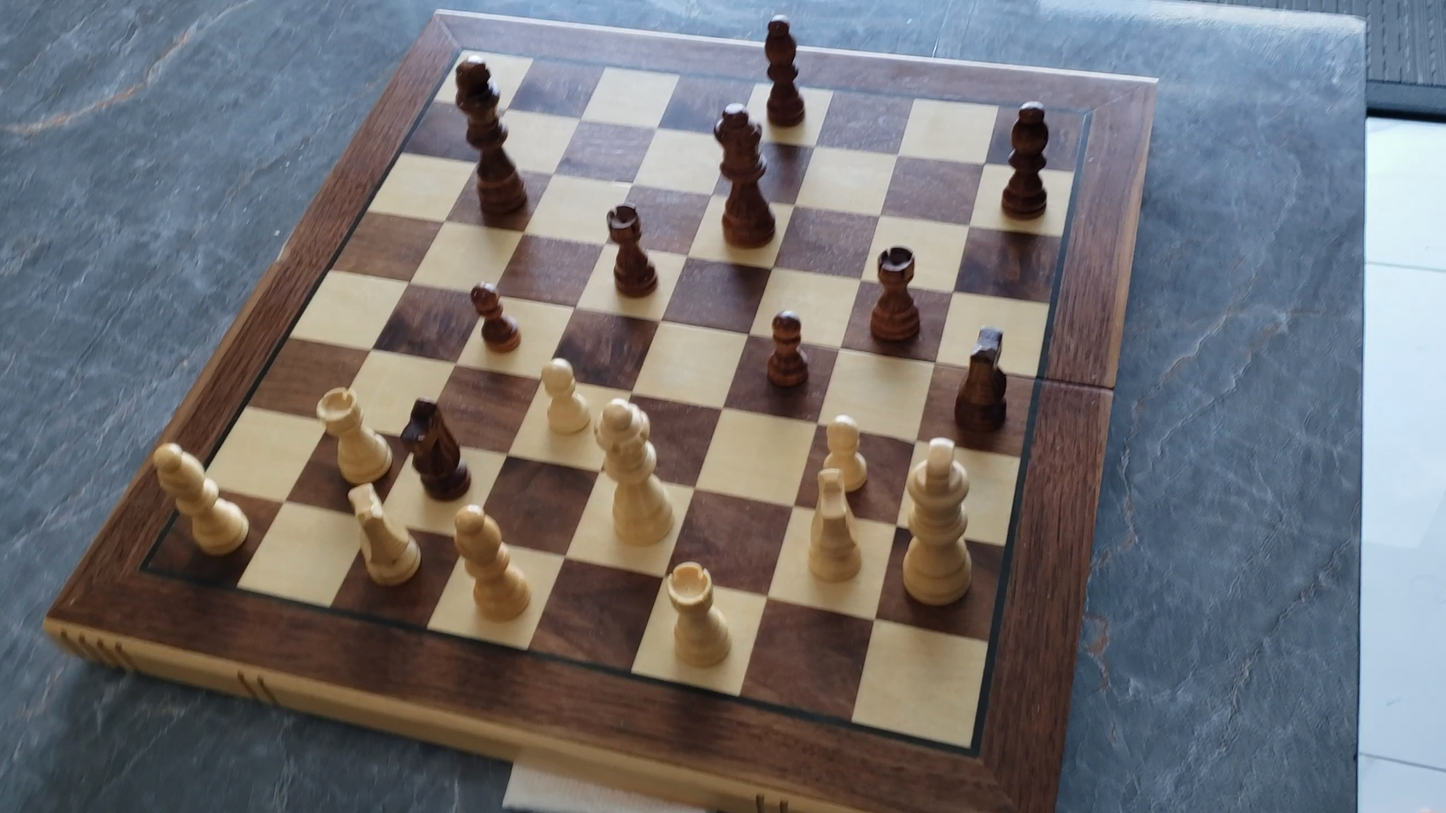black-bishop: (751, 13, 822, 133), (999, 98, 1052, 220)
black-king: (431, 54, 546, 223)
black-knight: (399, 395, 474, 501), (952, 324, 1011, 433)
black-pawn: (465, 277, 524, 362), (763, 307, 810, 391)
black-queen: (709, 99, 777, 248)
black-rook: (866, 244, 922, 346), (602, 200, 659, 299)
white-bishop: (146, 440, 253, 561), (447, 502, 535, 624)
white-king: (894, 432, 979, 613)
white-knight: (342, 482, 426, 592), (803, 464, 866, 588)
white-pawn: (815, 409, 880, 490), (535, 355, 595, 439)
white-queen: (590, 396, 679, 551)
white-rook: (659, 557, 736, 674), (313, 383, 394, 490)
